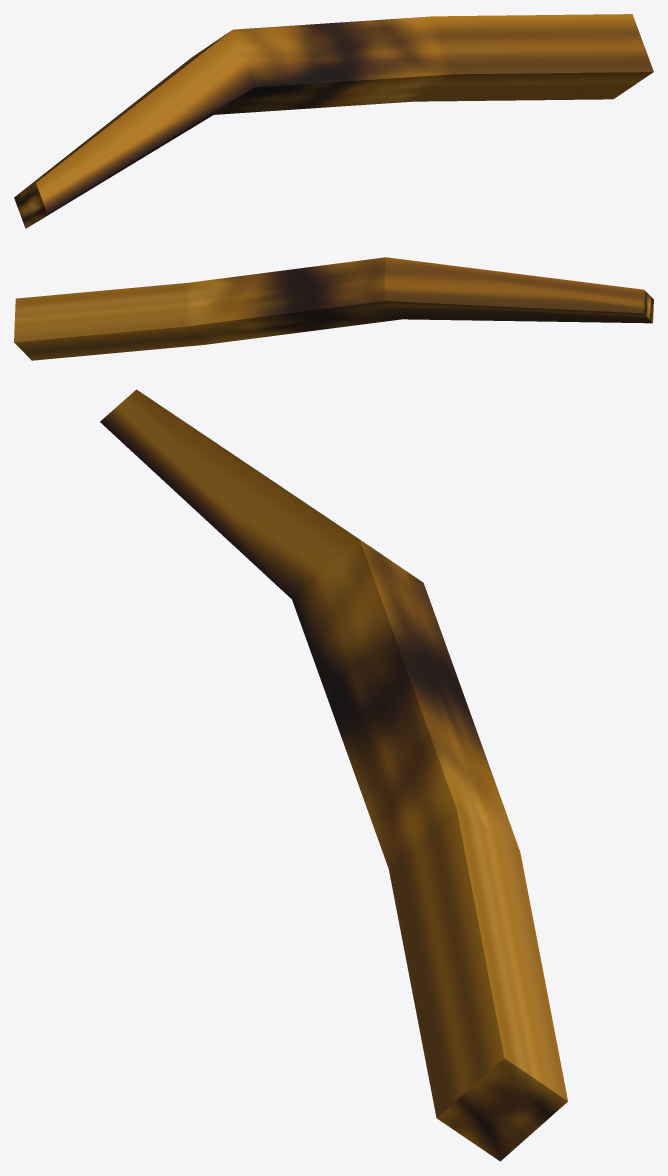
Rendered from MTree_1_B_3.gltf.
The picture shows the model from 3 angles, top to bottom: view 1: azimuth 30°, elevation 25°; view 2: azimuth 150°, elevation 25°; view 3: azimuth 270°, elevation 25°; orthographic projection. The views are drawn at different scales.
Visible parts, largest first — view 1: MTree_1_B_3; view 2: MTree_1_B_3; view 3: MTree_1_B_3.
Boxes of the visible parts, <box> form: MTree_1_B_3: <box>14,14,653,228</box>; MTree_1_B_3: <box>14,257,653,360</box>; MTree_1_B_3: <box>100,389,567,1161</box>.
Size of the model in its own units: 5.99 by 1.63 by 2.23.
1 material, 1 textured.
